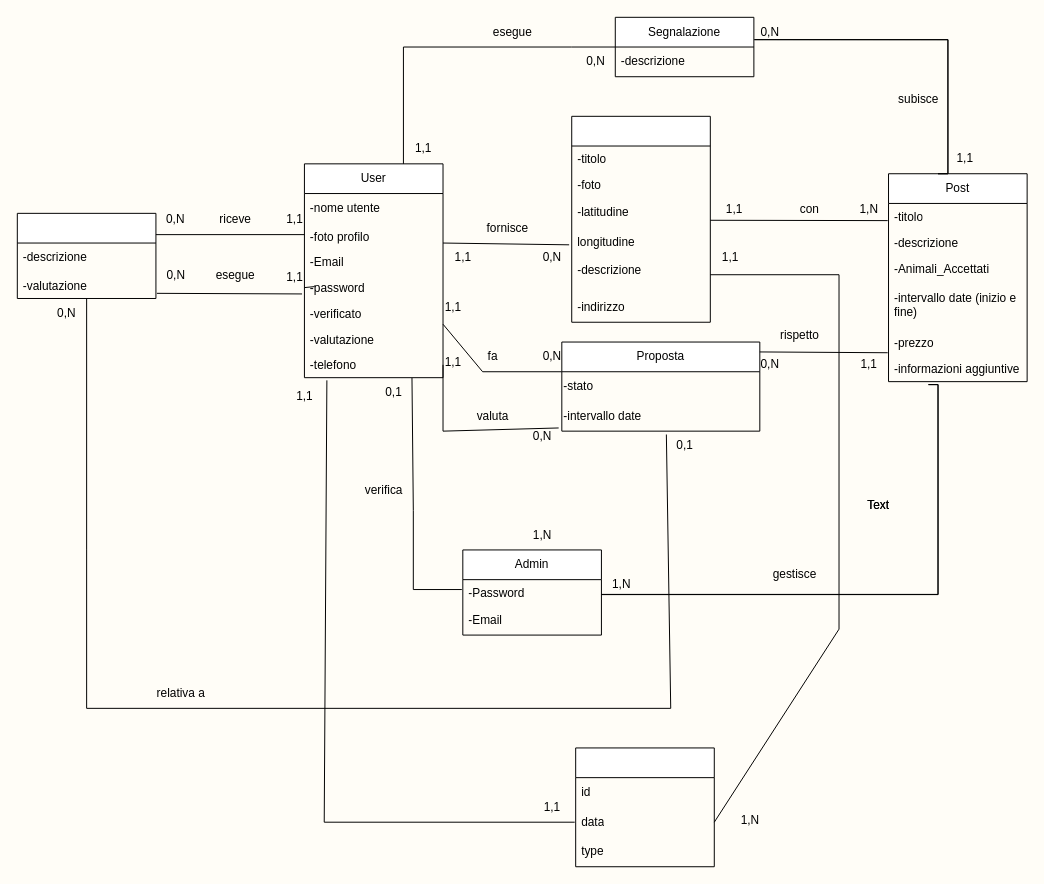
Image size: 1044x884. Some labels were removed from this diagram. Here are the shapes that lost their labels. From the top down, the box of each, then its label:
(571, 115, 710, 322): Locazione
(16, 212, 156, 298): Recensione
(575, 747, 714, 867): photo
